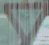Give way: (4, 0, 47, 43)
